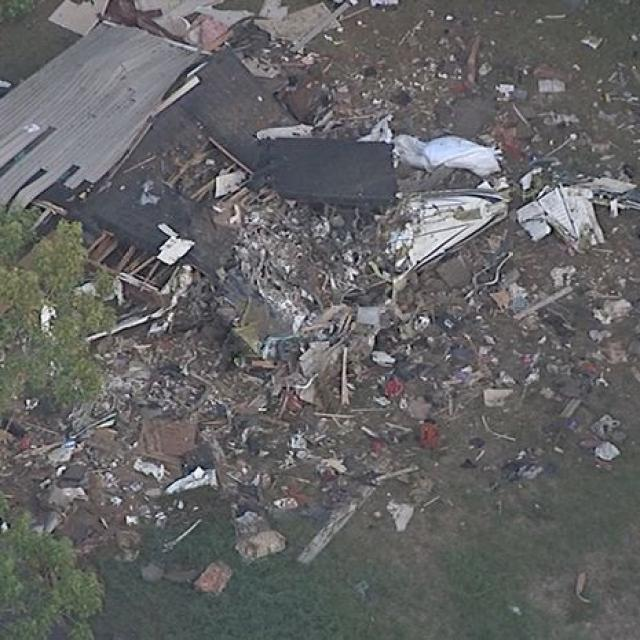collapsed_building: (0, 38, 432, 426)
